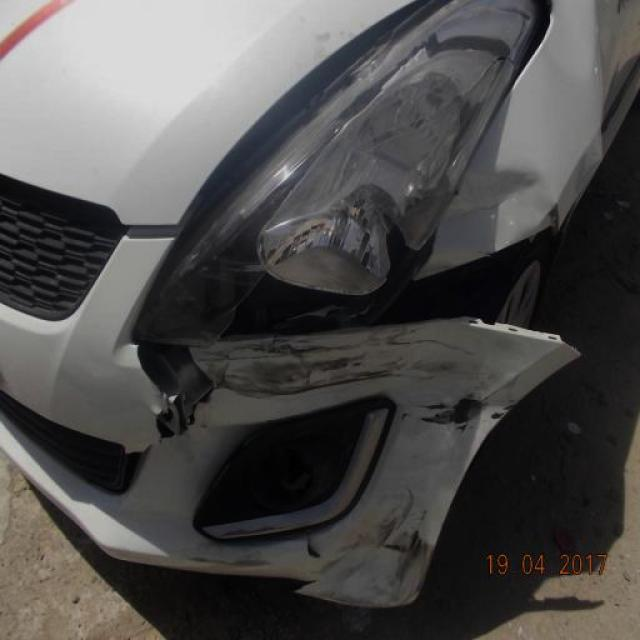car damage: (214, 231, 585, 357), (194, 332, 442, 403), (302, 484, 440, 610), (137, 345, 219, 444), (403, 393, 490, 433)
